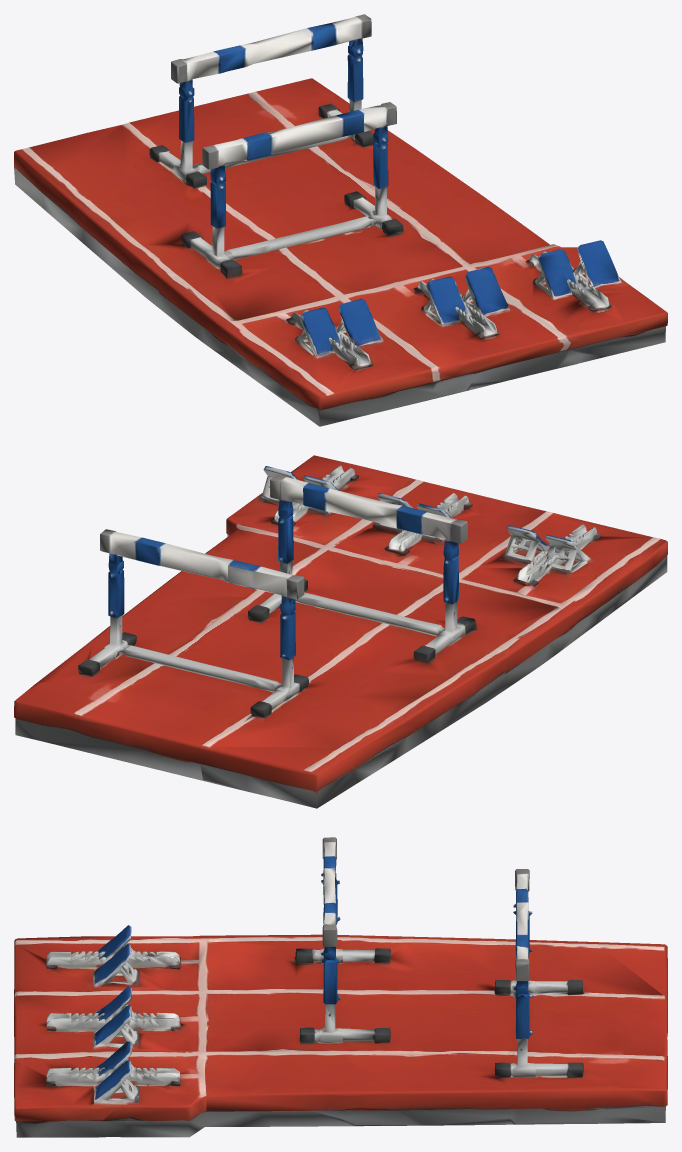
Rendered from hurdles.glb.
The picture shows the model from 3 angles, top to bottom: view 1: azimuth 30°, elevation 25°; view 2: azimuth 150°, elevation 25°; view 3: azimuth 270°, elevation 25°; orthographic projection.
Visible parts, largest first — view 1: tripo_node_a311ae80-fe27-4bd8-b988-d34238667c83; view 2: tripo_node_a311ae80-fe27-4bd8-b988-d34238667c83; view 3: tripo_node_a311ae80-fe27-4bd8-b988-d34238667c83.
Part boxes in pixels (x1=…): tripo_node_a311ae80-fe27-4bd8-b988-d34238667c83: x1=14, y1=14, x2=667, y2=426; tripo_node_a311ae80-fe27-4bd8-b988-d34238667c83: x1=14, y1=455, x2=667, y2=808; tripo_node_a311ae80-fe27-4bd8-b988-d34238667c83: x1=14, y1=837, x2=667, y2=1137.
Size of the model in its own units: 0.6228 by 0.2577 by 0.9999.
1 material, 1 textured.
